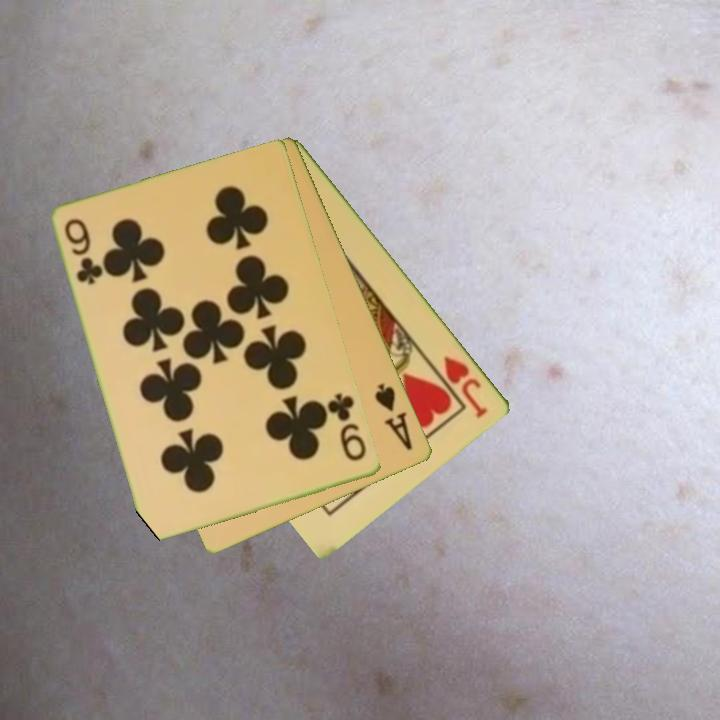9c: (324, 389, 370, 465), (61, 215, 106, 288)
As: (371, 379, 416, 454)
Jh: (440, 352, 492, 421)
